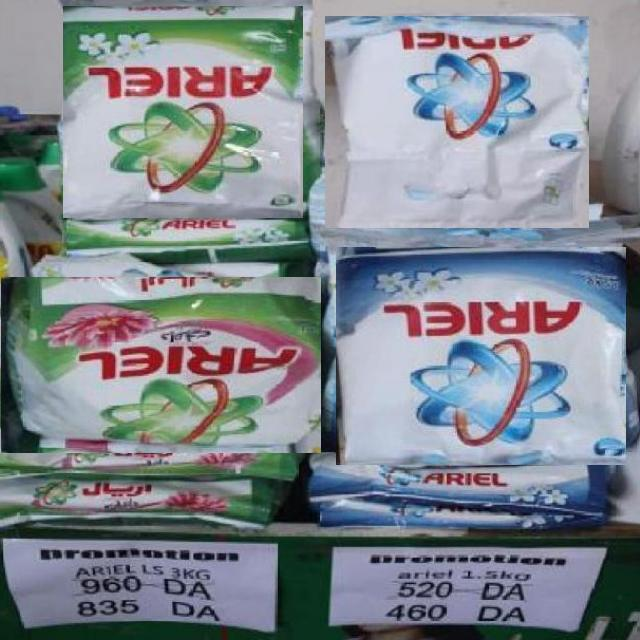Detergent: (336, 246, 626, 465), (0, 277, 321, 453), (324, 16, 589, 228), (63, 5, 303, 218)
